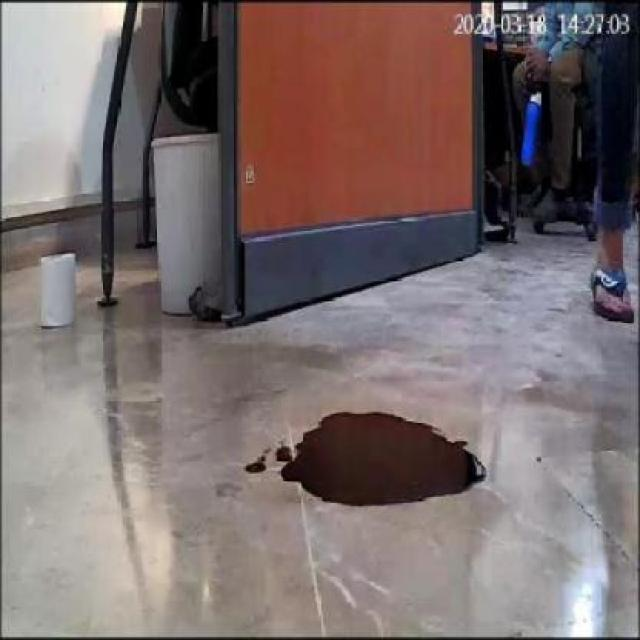spillage: (240, 405, 483, 512)
